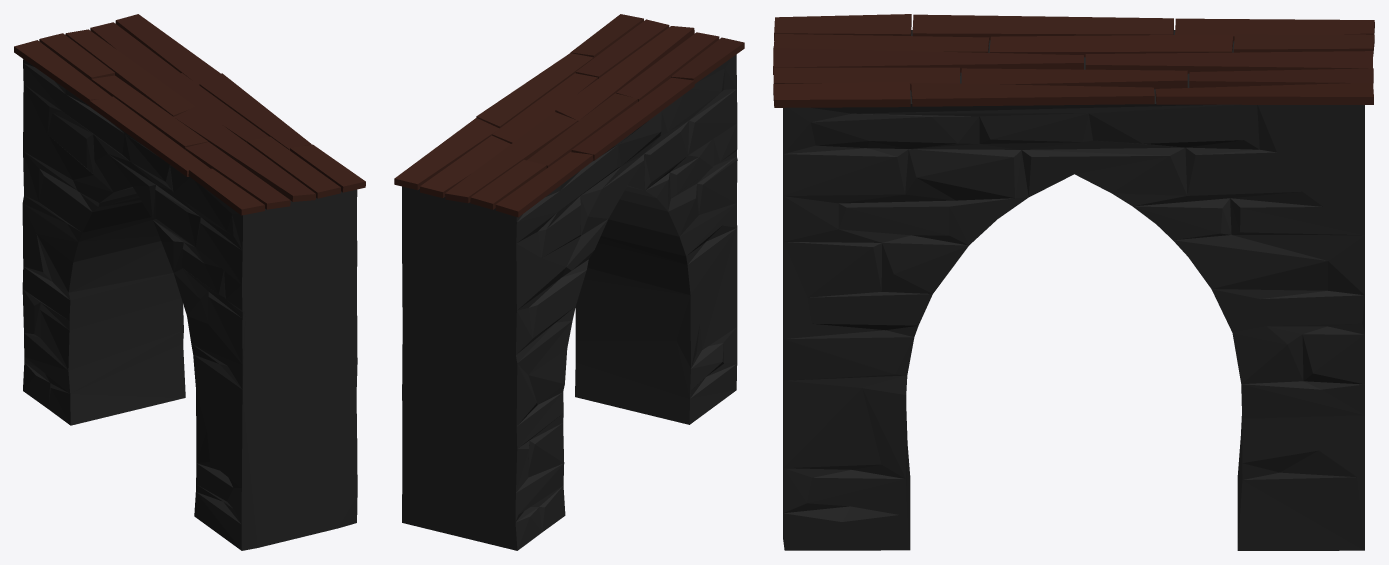
Rendered from civilian_bridge_4_a.FBX.
The picture shows the model from 3 angles, left to right: view 1: azimuth 30°, elevation 25°; view 2: azimuth 150°, elevation 25°; view 3: azimuth 270°, elevation 25°; orthographic projection. The views are drawn at different scales.
Parts seen in each view (by area): view 1: civilian_bridge_4_a; view 2: civilian_bridge_4_a; view 3: civilian_bridge_4_a.
Boxes of the visible parts, x1,y1,x2,y2 form: civilian_bridge_4_a: [14, 14, 365, 550]; civilian_bridge_4_a: [394, 14, 744, 550]; civilian_bridge_4_a: [773, 14, 1374, 550].
Bounding box in the file's own units: 220 × 575 × 682.
